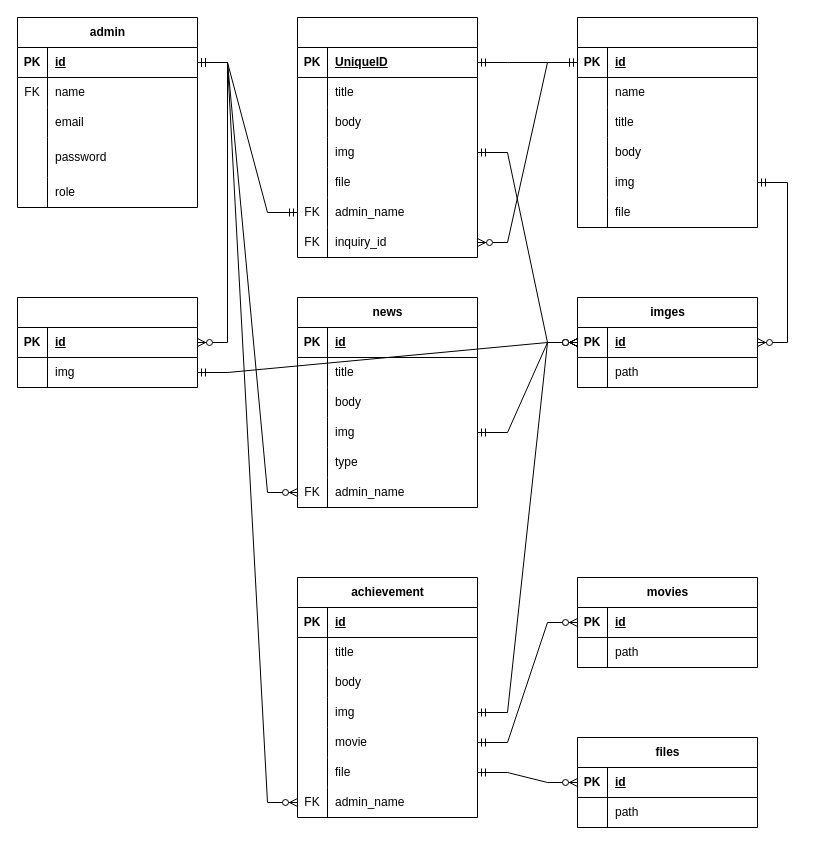
This 814x845 diagram has some shape labels left out. Each missing label, with the box of its shape:
game: (16, 296, 198, 388)
inquiry: (576, 16, 758, 228)
reply: (296, 16, 478, 258)
